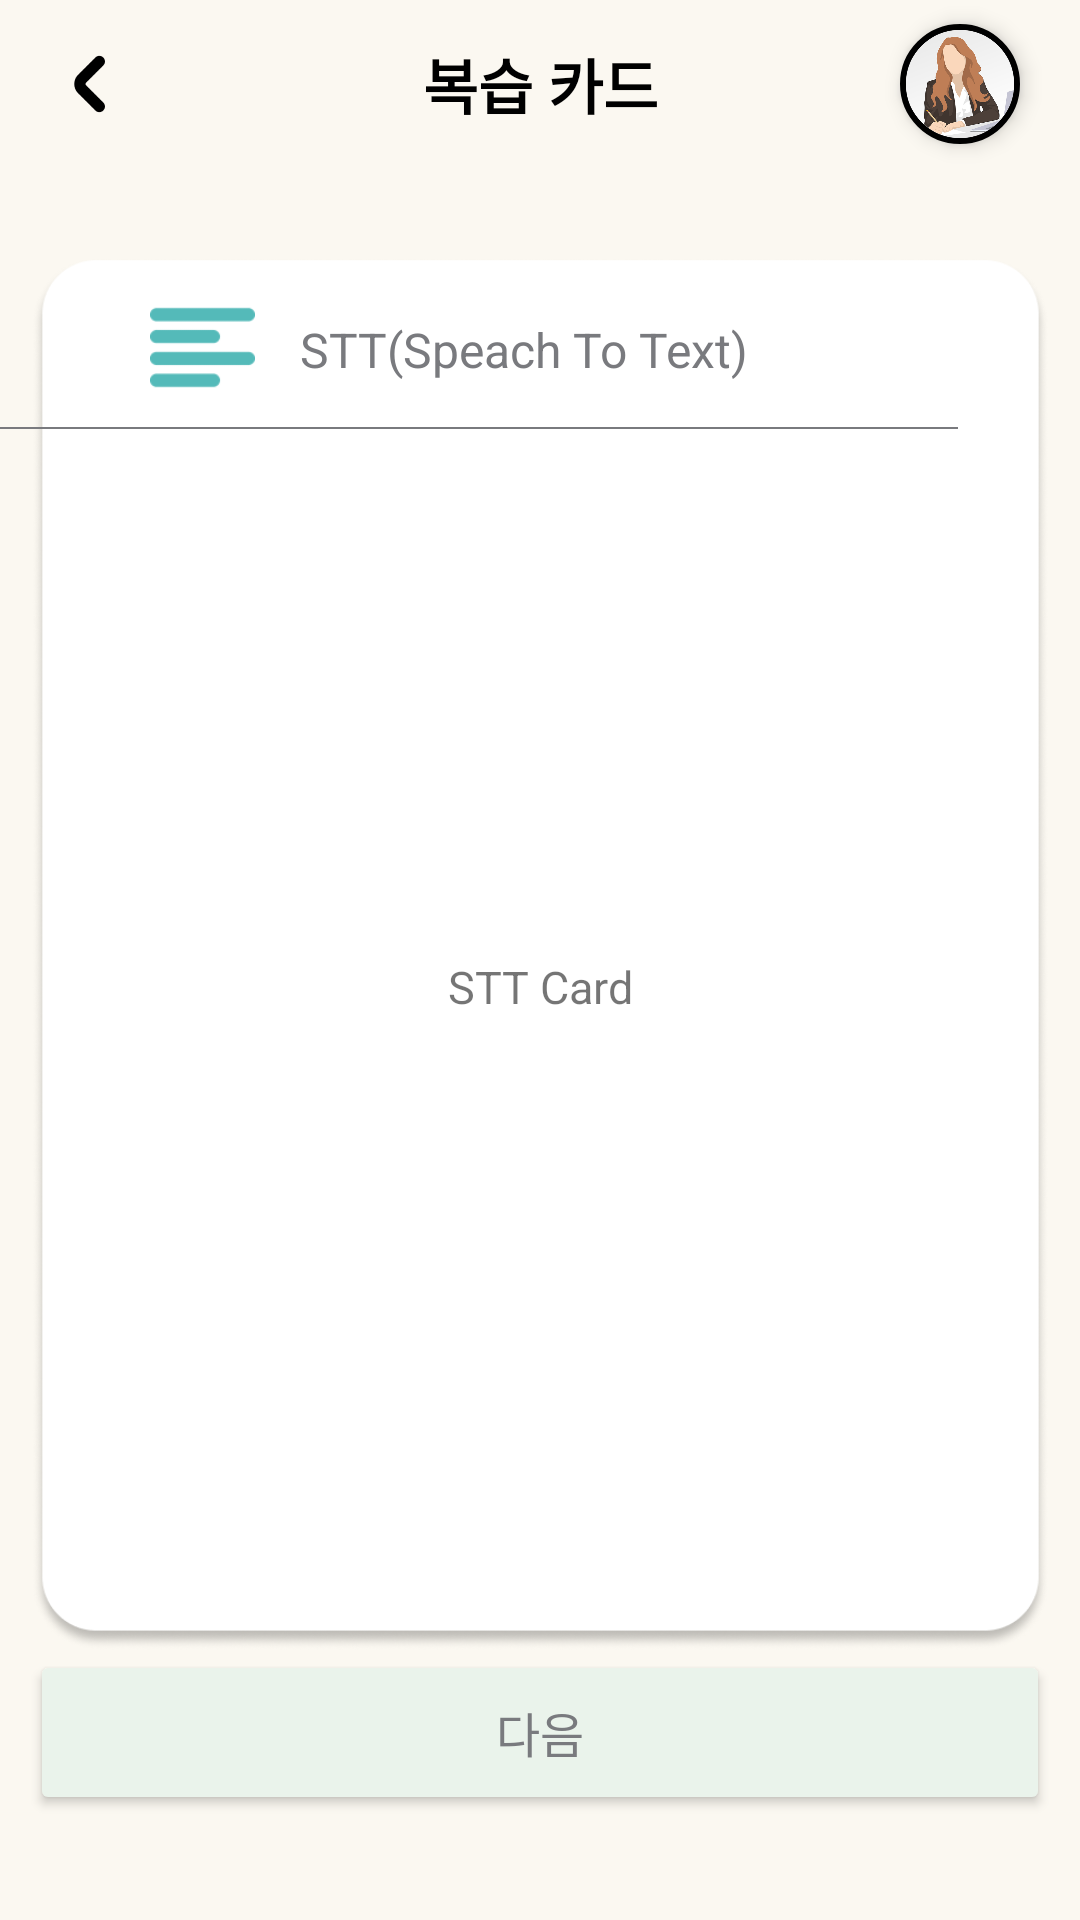

Point at icon controls on the screen. Image size 1080px x 1920px, points as (x,y).
back: (89,84)
profile: (960,84)
